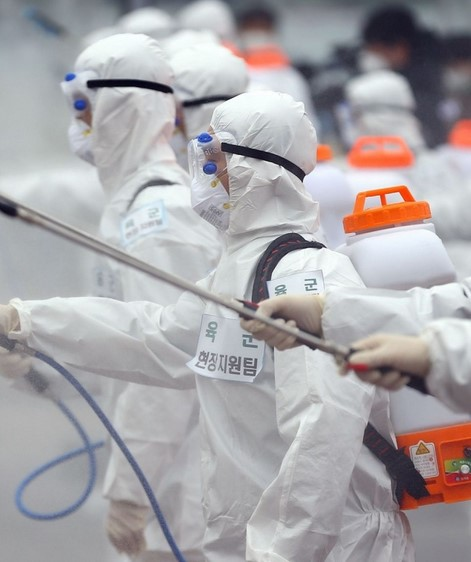face_with_mask: (188, 95, 316, 237), (61, 40, 175, 183)
